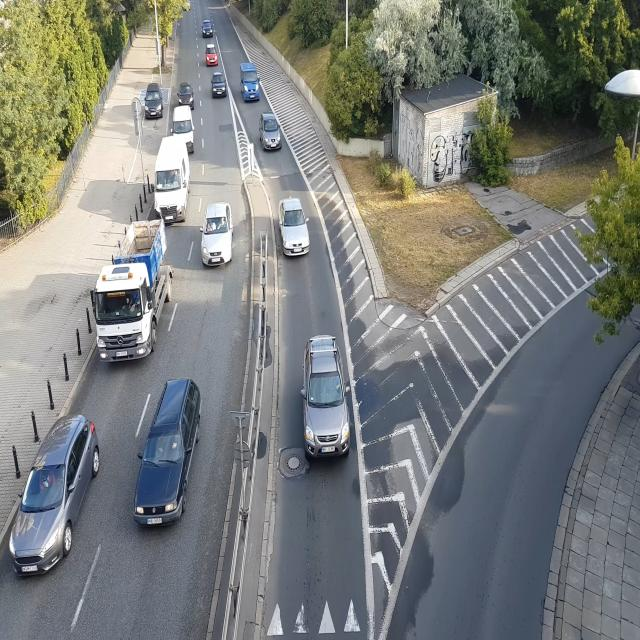car: (8, 420, 102, 578), (133, 379, 200, 526), (152, 135, 190, 224), (202, 202, 237, 265), (279, 198, 310, 256), (172, 101, 196, 146), (259, 113, 282, 152), (144, 86, 164, 118), (203, 44, 220, 68), (213, 75, 229, 99), (178, 84, 196, 105), (241, 84, 260, 102), (200, 21, 214, 37)
truck: (92, 258, 162, 362), (239, 64, 260, 102)
